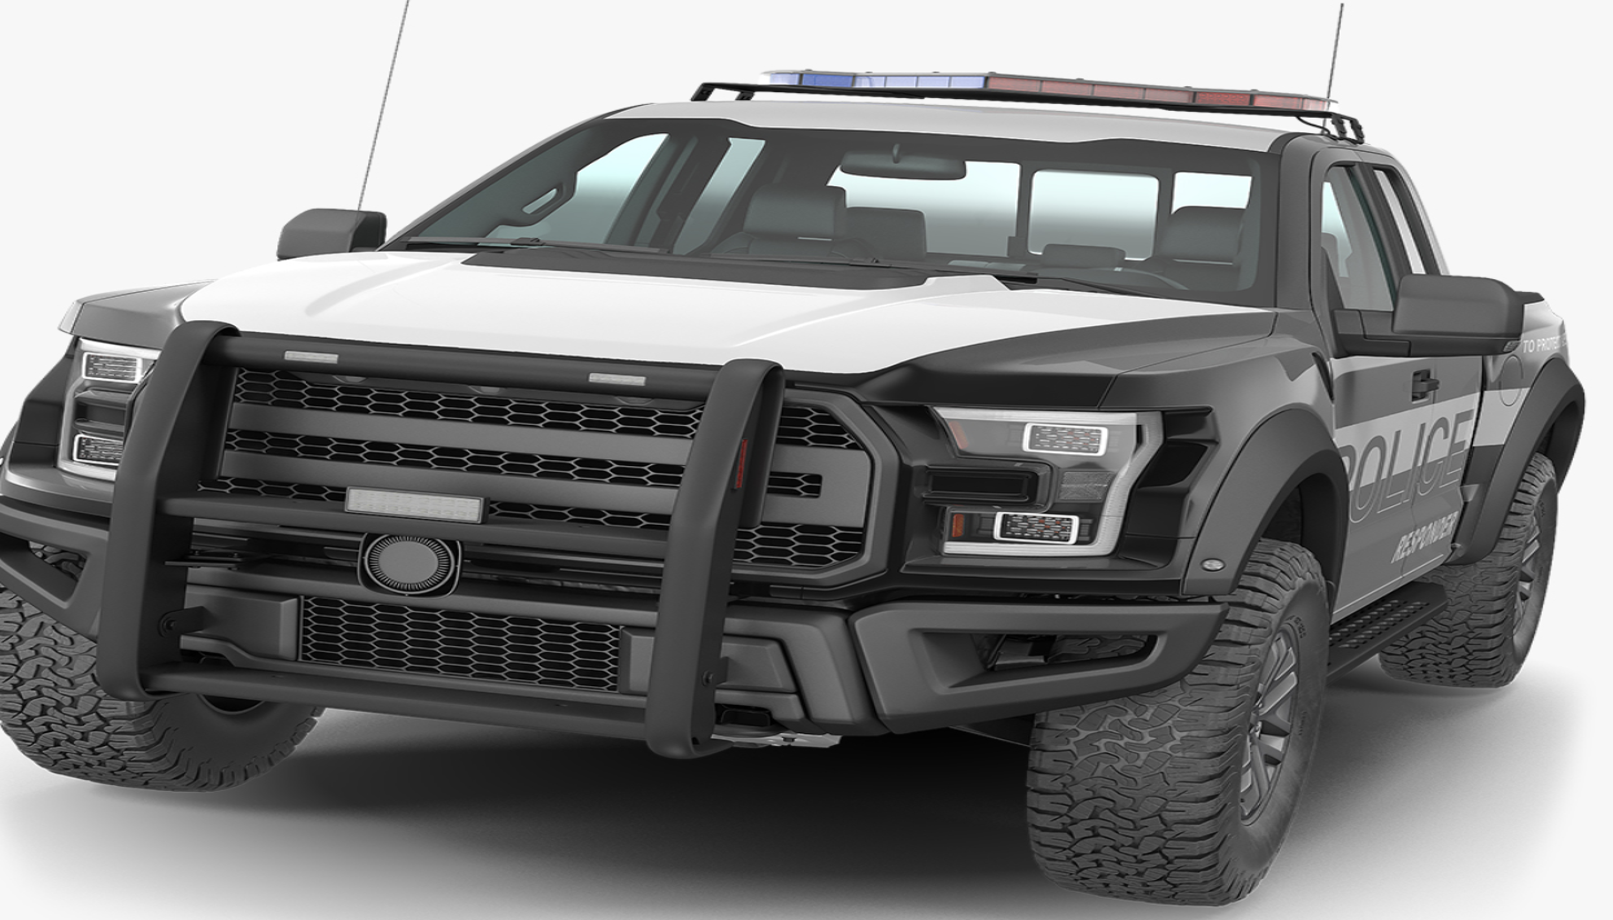hatch: (1494, 351, 1525, 412)
